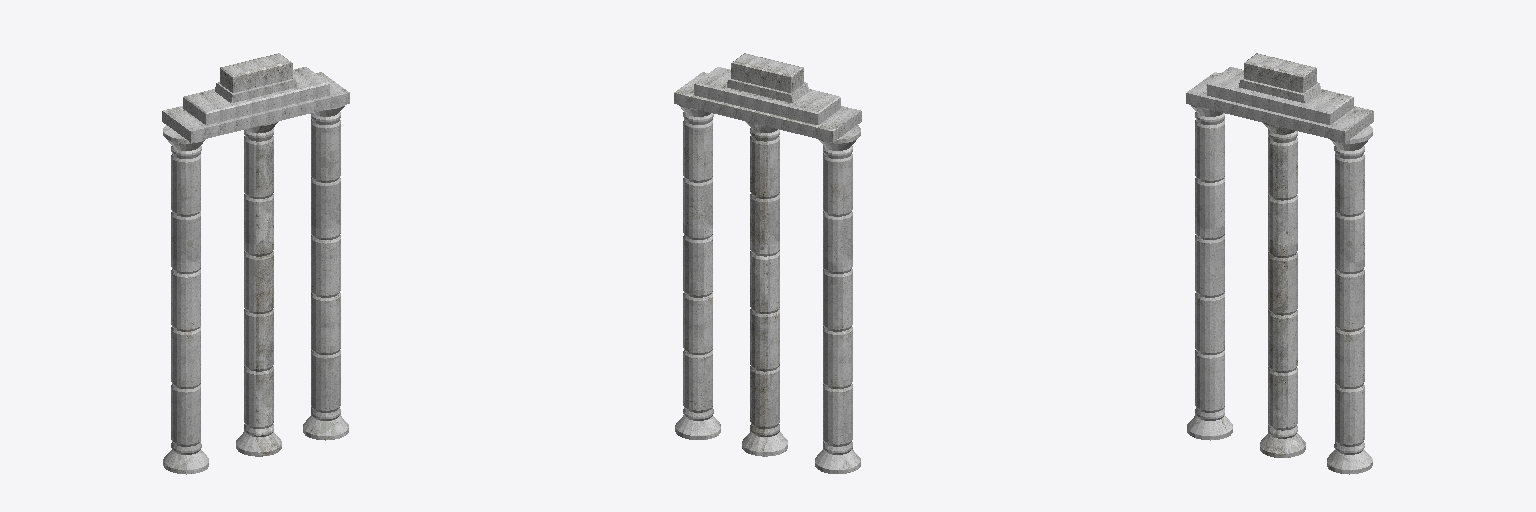
The picture shows the model from 3 angles: view 1: azimuth 30°, elevation 25°; view 2: azimuth 150°, elevation 25°; view 3: azimuth 330°, elevation 25°; orthographic projection.
Visible parts, largest first — view 1: Cylinder003, Cylinder004, Cylinder005, Box001; view 2: Cylinder003, Cylinder005, Cylinder004, Box001; view 3: Cylinder005, Cylinder004, Cylinder003, Box001.
Boxes of the visible parts, x1,y1,x2,y2 form: Cylinder003: [163, 125, 208, 474]; Cylinder004: [236, 121, 281, 456]; Cylinder005: [303, 105, 348, 440]; Box001: [162, 53, 349, 142]; Cylinder003: [815, 125, 860, 473]; Cylinder005: [675, 105, 720, 439]; Cylinder004: [742, 121, 787, 456]; Box001: [674, 53, 861, 142]; Cylinder005: [1327, 125, 1372, 474]; Cylinder004: [1260, 123, 1305, 457]; Cylinder003: [1187, 105, 1232, 440]; Box001: [1186, 53, 1373, 142].
Bounding box in the file's own units: 39.25 × 79.96 × 10.79.
Materials: 1 (1 with a texture image).